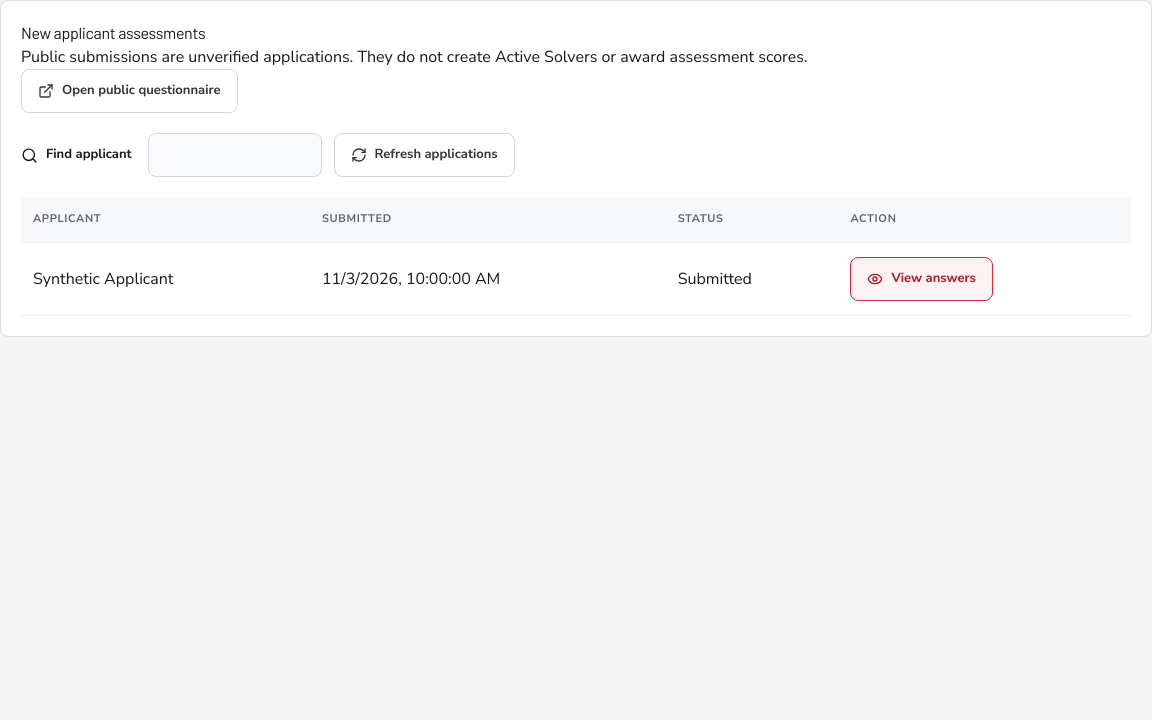
Test: HR can inspect applicant answers without activating a Solver
Click the button "View answers": [922, 278] box [850, 256, 993, 300]
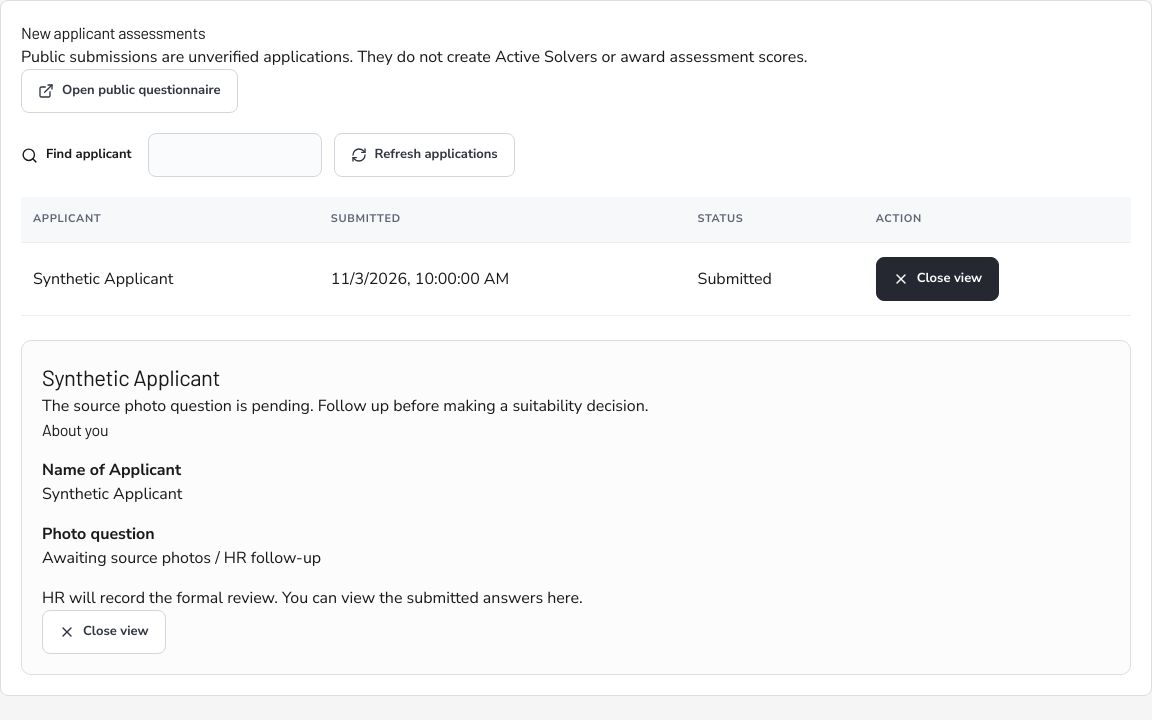
Expected: the text "source photo question is pending" is shown, [42, 394, 648, 416]
Expected: the element named "Applicant answers" is shown, [21, 340, 1131, 674]
Expected: the button "Close view" in the row of "11/3/2026, 10:00:00 AM" is shown
Click the button "Close view" in the row of "11/3/2026, 10:00:00 AM": [937, 278] box [876, 256, 999, 300]
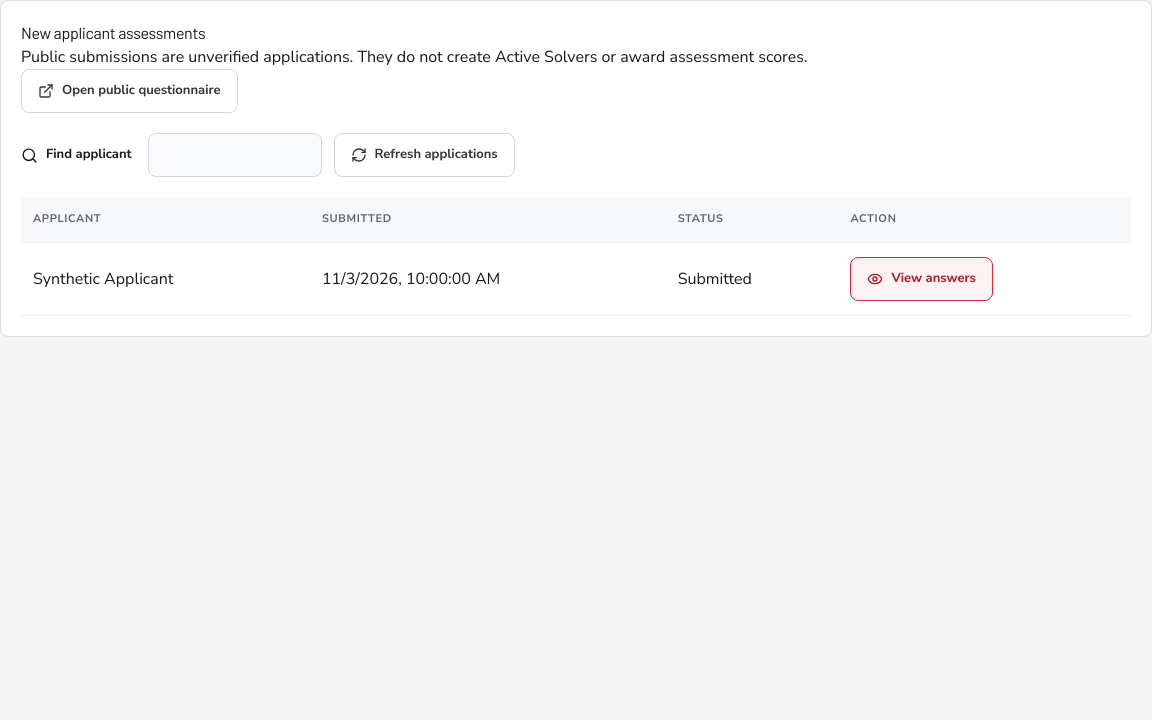
Expected: the button "View answers" is shown, [850, 256, 993, 300]
Expected: the button "View answers" is collapsed, [850, 256, 993, 300]
